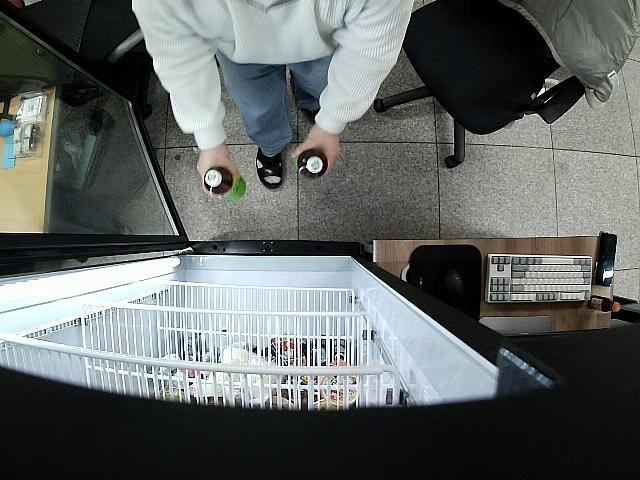19_17cha: (204, 167, 246, 202), (294, 150, 328, 178)
